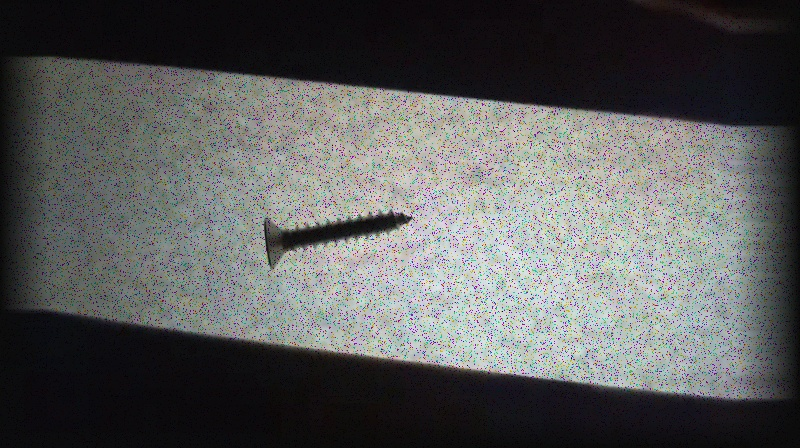S001: (260, 206, 416, 271)
